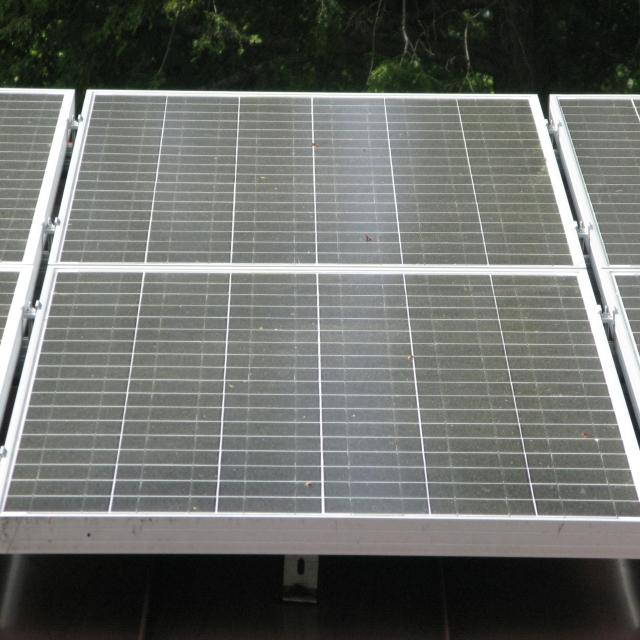dust-solar-panel: (1, 88, 640, 560)
